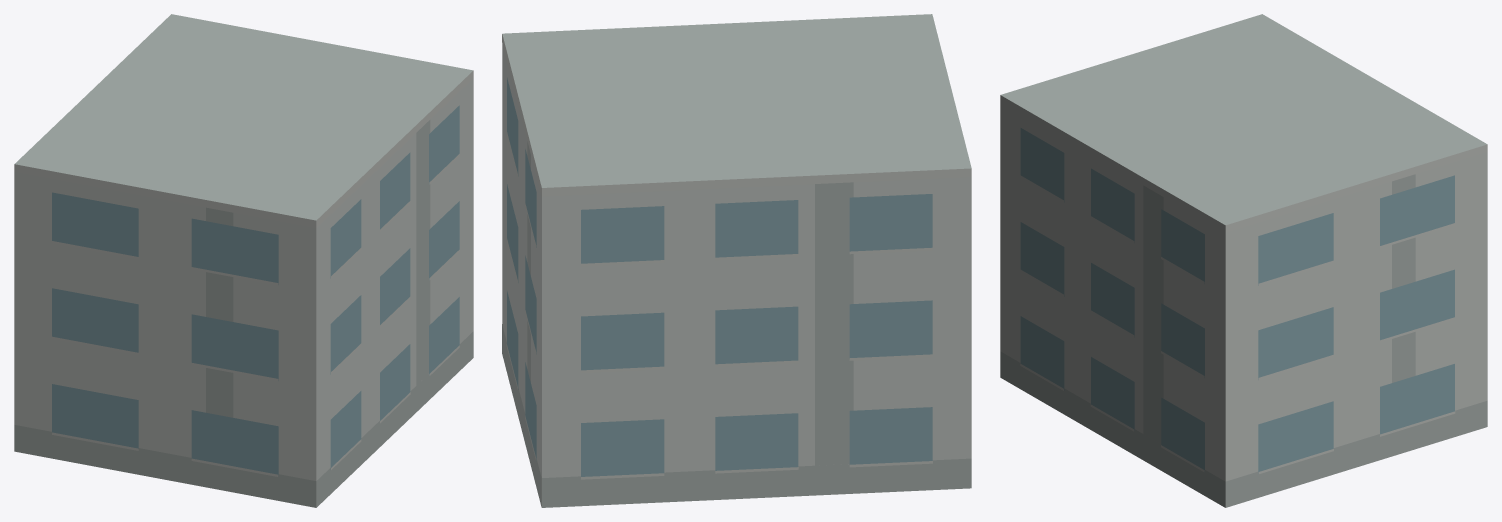
The model's file is residential-68a55a5b-1588-40bc-9276-697f9a6973fe.glb.
The picture shows the model from 3 angles, left to right: view 1: azimuth 30°, elevation 25°; view 2: azimuth 150°, elevation 25°; view 3: azimuth 270°, elevation 25°; orthographic projection. The views are drawn at different scales.
Parts seen in each view (by area): view 1: residential-68a55a5b-1588-40bc-9276-697f9a6973fe.tmp; view 2: residential-68a55a5b-1588-40bc-9276-697f9a6973fe.tmp; view 3: residential-68a55a5b-1588-40bc-9276-697f9a6973fe.tmp.
Part boxes in pixels (left/top/right/bottom): residential-68a55a5b-1588-40bc-9276-697f9a6973fe.tmp: left=14, top=14, right=473, bottom=507; residential-68a55a5b-1588-40bc-9276-697f9a6973fe.tmp: left=502, top=14, right=971, bottom=507; residential-68a55a5b-1588-40bc-9276-697f9a6973fe.tmp: left=1000, top=14, right=1487, bottom=507.
Size of the model in its own units: 14.69 by 9.15 by 14.31.
